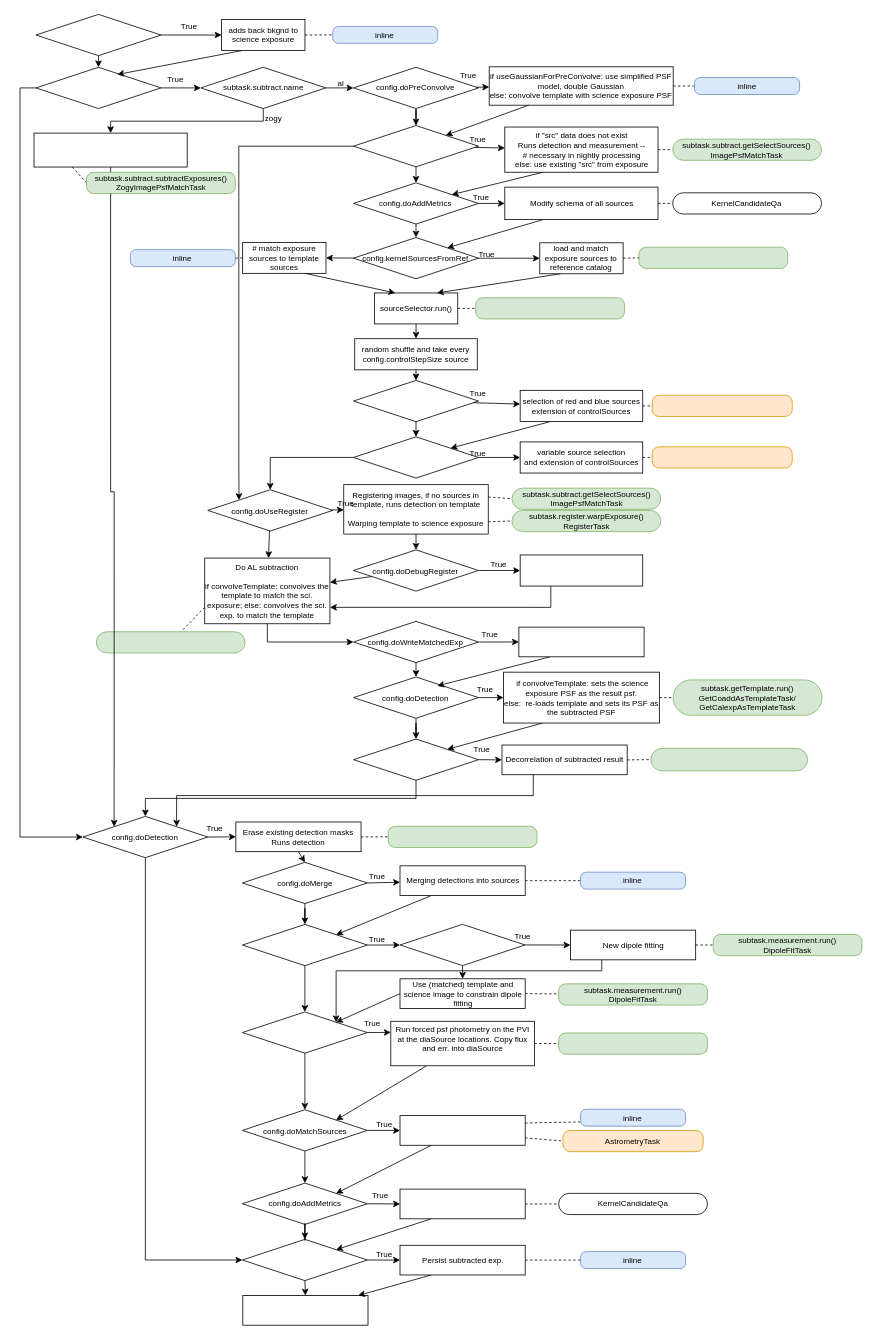
Image size: 876x1339. Some labels were removed from this diagram. Here are the shapes that lost their labels. From the top down, the centre of each, then its label:
point (98, 35): doAddCalexpBackground
point (98, 87): config.doSubtract
point (110, 149): Calls zogy subtask It also has further subtasks
point (415, 146): config.doSelectSources
point (713, 257): subtask.astrometer.loadAndMatch() AstrometryTask
point (549, 308): subtask.sourceSelector.run() ObjectSizeSourceSelectorTask
point (415, 401): config.doSelectDcrCatalog
point (721, 405): 2 x DiaCatalogSourceSelectorTask
point (415, 457): config.doSelectVariableCatalog
point (721, 457): DiaCatalogSourceSelectorTask
point (581, 570): output of registration metadata red, blue, green color statistics
point (170, 642): subtask.subtract.subtractExposures() ImagePsfMatchTask
point (581, 641): persist matched exposure "Diff_matchedExp"
point (415, 759): config.doDecorrelation
point (729, 759): subtask.decorrelate.run() DecorrelateALKernelSpatialTask
point (462, 836): subtask.detection.makeSourceCatalog() SourceDetectionTask
point (304, 945): config.doMeasurement
point (462, 945): config.doDipoleFitting
point (304, 1032): config.doForcedMeasurement
point (632, 1043): subtask.forcedMeasurement.run() ForcedMeasurementTask
point (462, 1130): Match with the sci.calexp. sources if possible
point (462, 1203): Metrics using control sample kernels
point (304, 1260): config.doWriteSubtractedExp
point (305, 1310): self.runDebug()
